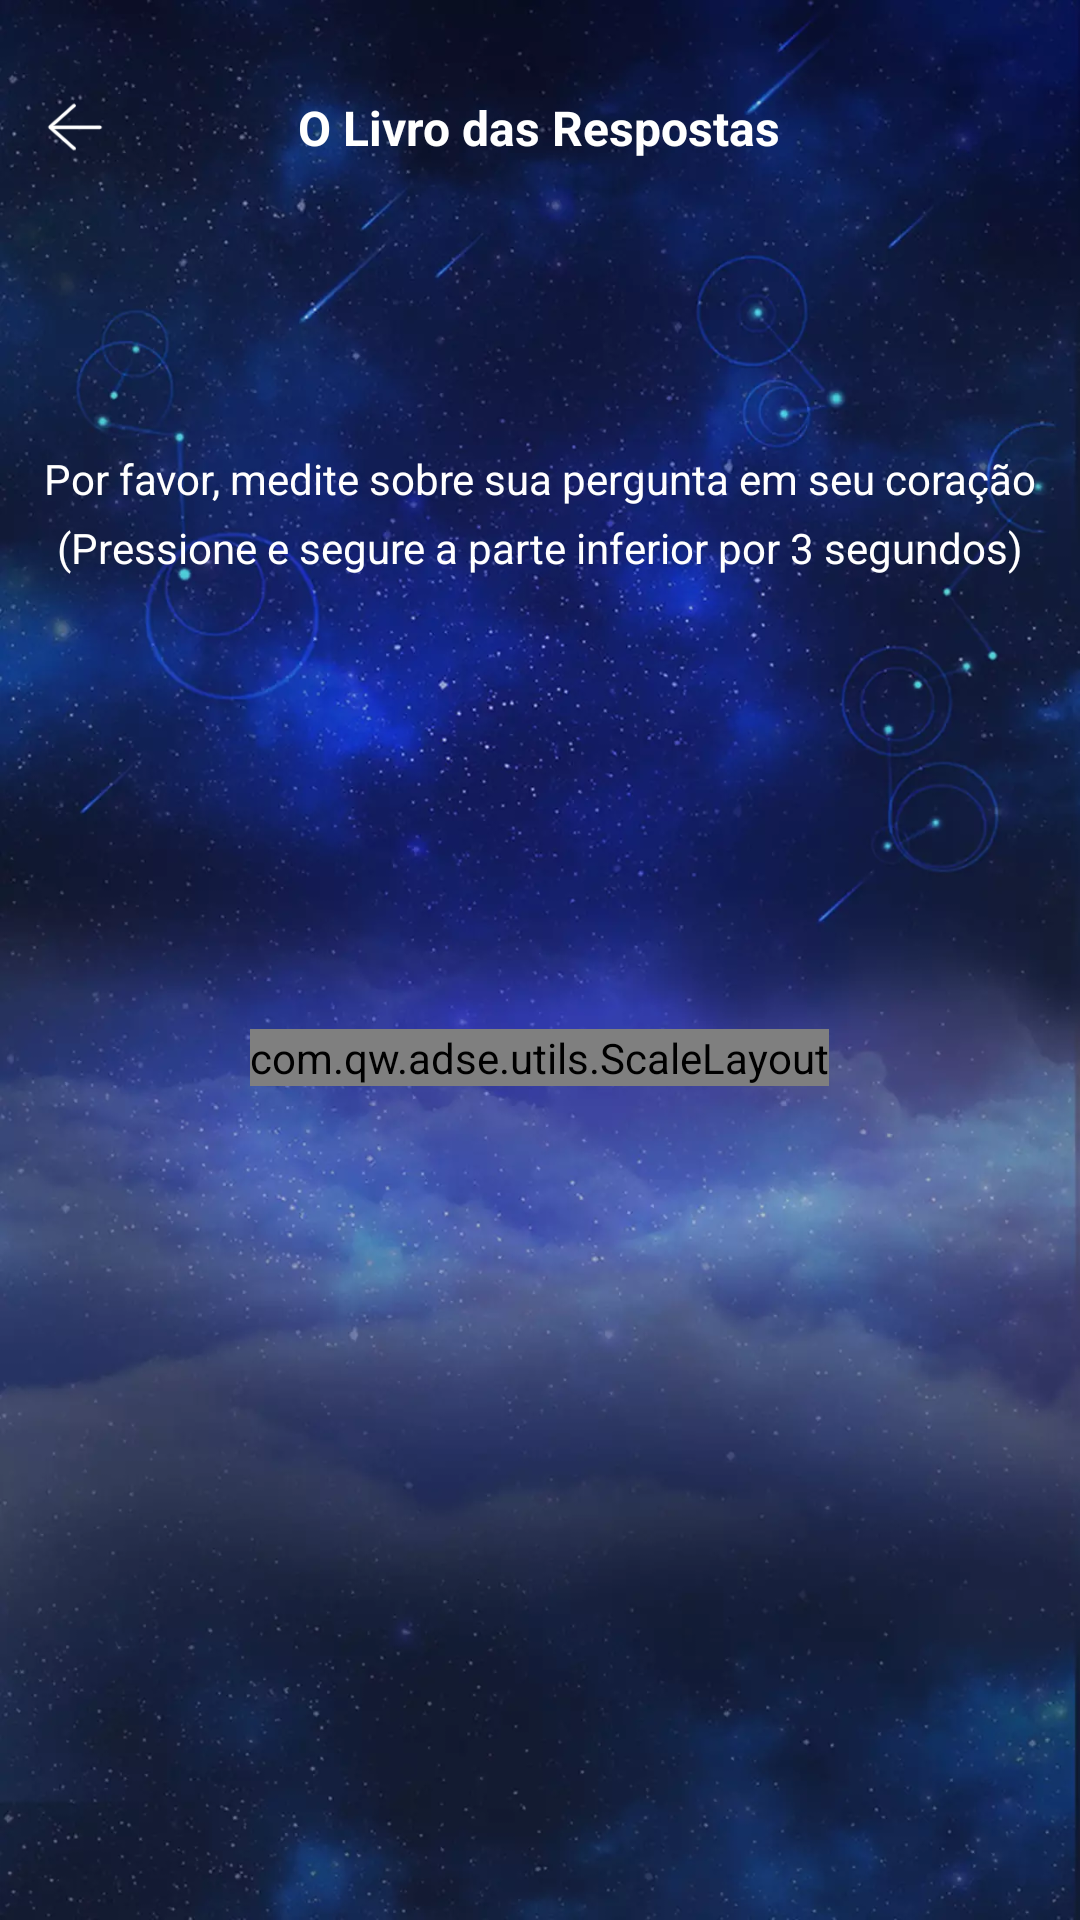

Screen size 1080px x 1920px. Icon name, then its box in pixels as detection(x1, y1, x2, y2):
fanhui: detection(46, 97, 105, 151)
